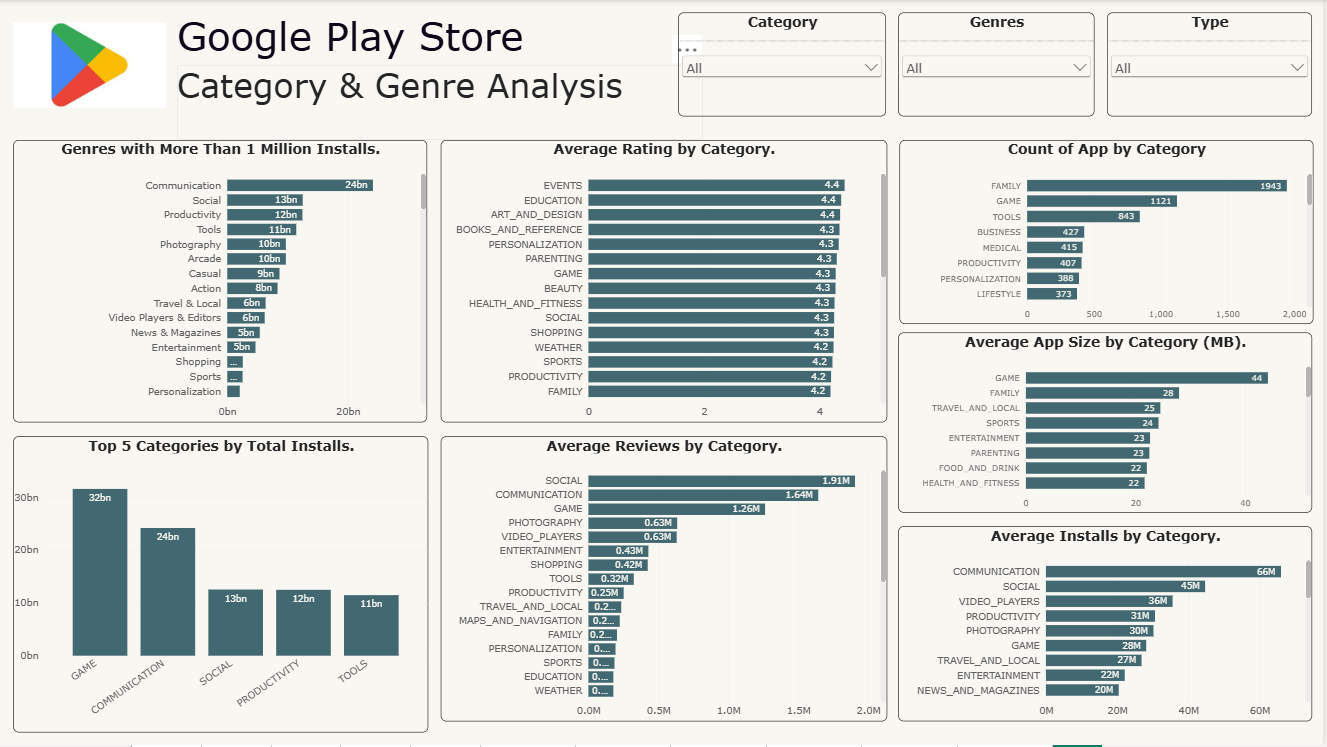

What the dashboard file says about the page in this screenshot:
{"tool":"powerbi","page":{"name":"2.Category & Genre Analysis","canvas":[1920,1080],"ordinal":1},"visuals":[{"type":"textbox","box":[260.6,94.1,761.9,108.6],"z":0},{"type":"columnChart","title":"Top 5 Categories by Total Installs.","fields":{"Category":["googleplaystore.Category"],"Y":["Sum(googleplaystore.Installs)"]},"box":[23.5,631.6,600.8,428.9],"z":1000},{"type":"clusteredBarChart","title":"Average Rating by Category.","fields":{"Category":["googleplaystore.Category"],"Y":["Avg(googleplaystore.Rating)"]},"box":[642.4,202.7,646,409],"z":2000},{"type":"clusteredBarChart","title":"Average App Size by Category (MB).","fields":{"Category":["googleplaystore.Category"],"Y":["Avg(googleplaystore.Size_MB)"]},"box":[1304.8,481.4,599,260.6],"z":3000},{"type":"clusteredBarChart","title":"Average Reviews by Category.","fields":{"Category":["googleplaystore.Category"],"Y":["Avg(googleplaystore.Reviews)"]},"box":[642.4,631.6,646,412.6],"z":4000},{"type":"clusteredBarChart","fields":{"Category":["googleplaystore.Category"],"Y":["CountNonNull(googleplaystore.App)"]},"box":[1306.6,202.7,599,266],"z":5000},{"type":"clusteredBarChart","title":"Average Installs by Category.","fields":{"Category":["googleplaystore.Category"],"Y":["Avg(googleplaystore.Installs)"]},"box":[1304.8,761.9,599,282.3],"z":6000},{"type":"clusteredBarChart","title":"Genres with More Than 1 Million Installs.","fields":{"Category":["googleplaystore.Genres"],"Y":["Sum(googleplaystore.Installs)"]},"box":[23.5,202.7,599,409],"z":7000},{"type":"image","box":[23.5,7.2,220.8,173.7],"z":8000},{"type":"textbox","box":[260.6,18.1,725.7,76],"z":9000},{"type":"slicer","title":"Category","fields":{"Values":["googleplaystore.Category"]},"box":[986.3,18.1,300.4,150.2],"z":9001},{"type":"slicer","title":"Genres","fields":{"Values":["googleplaystore.Genres"]},"box":[1304.8,18.1,284.1,150.2],"z":9002},{"type":"slicer","title":"Type","fields":{"Values":["googleplaystore.Type"]},"box":[1607,18.1,296.8,150.2],"z":9003}]}

Visuals, with their boxes in screenshot pixels (x1, y1, x2, y2), scaled from the page's 1920x1080 canvas onto the 1327x747 screenshot:
textbox: [180,65,707,140]
"Top 5 Categories by Total Installs." columnChart: [16,437,431,734]
"Average Rating by Category." clusteredBarChart: [444,140,890,423]
"Average App Size by Category (MB)." clusteredBarChart: [902,333,1316,513]
"Average Reviews by Category." clusteredBarChart: [444,437,890,722]
clusteredBarChart - googleplaystore.Category x CountNonNull(googleplaystore.App): [903,140,1317,324]
"Average Installs by Category." clusteredBarChart: [902,527,1316,722]
"Genres with More Than 1 Million Installs." clusteredBarChart: [16,140,430,423]
image: [16,5,169,125]
textbox: [180,13,682,65]
"Category" slicer: [682,13,889,116]
"Genres" slicer: [902,13,1098,116]
"Type" slicer: [1111,13,1316,116]
